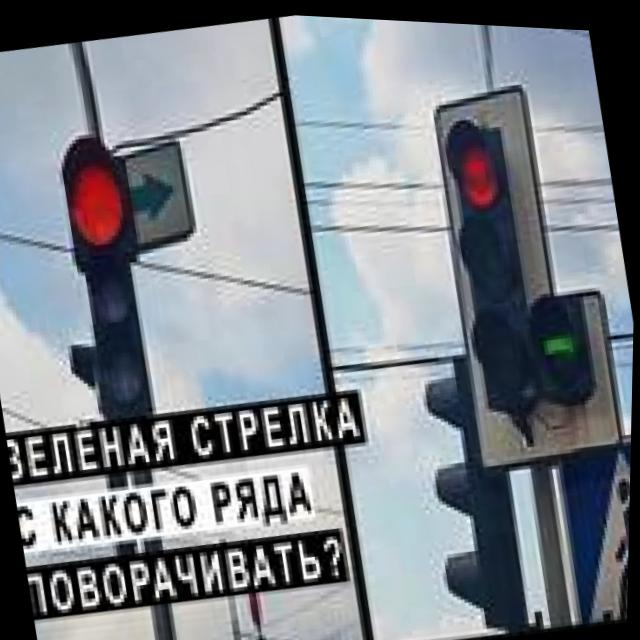red_light: (1, 107, 185, 295), (426, 93, 515, 229)
